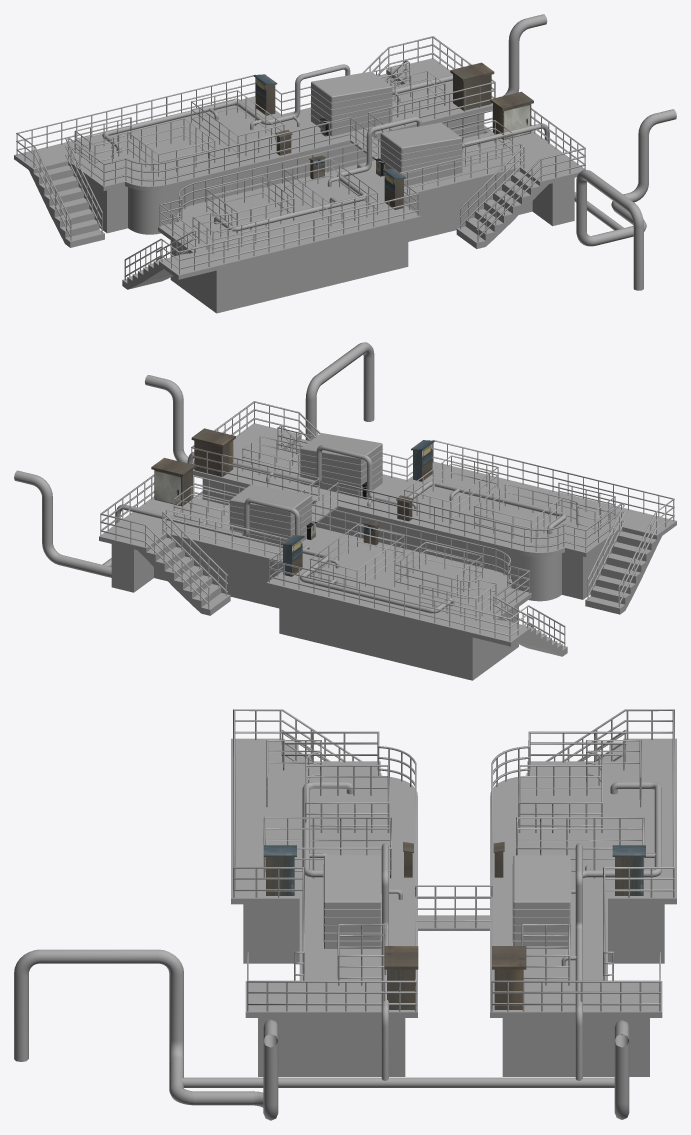
The model's file is ChenShaChi.fbx.
The picture shows the model from 3 angles, top to bottom: view 1: azimuth 30°, elevation 25°; view 2: azimuth 150°, elevation 25°; view 3: azimuth 270°, elevation 25°; orthographic projection. The views are drawn at different scales.
Visible parts, largest first — view 1: DiMian, LanGan, CiZhuan, GuanDao, polySurface11, polySurface12, polySurface1, polySurface3, polySurface6, polySurface4; view 2: DiMian, LanGan, CiZhuan, GuanDao, polySurface12, polySurface11, polySurface1, polySurface3, polySurface4, polySurface6; view 3: DiMian, LanGan, CiZhuan, GuanDao, polySurface11, polySurface12, polySurface1, polySurface3, polySurface4, polySurface6.
Boxes of the visible parts, x1,y1,x2,y2 form: DiMian: (14, 58, 584, 289); LanGan: (16, 36, 585, 280); CiZhuan: (73, 113, 574, 313); GuanDao: (102, 14, 676, 290); polySurface11: (310, 71, 392, 136); polySurface12: (380, 122, 462, 186); polySurface1: (450, 62, 494, 110); polySurface3: (490, 91, 533, 139); polySurface6: (253, 74, 277, 115); polySurface4: (382, 168, 405, 209); DiMian: (99, 423, 676, 656); LanGan: (100, 401, 674, 647); CiZhuan: (111, 479, 616, 680); GuanDao: (14, 342, 566, 613); polySurface12: (299, 433, 382, 498); polySurface11: (229, 484, 312, 547); polySurface1: (151, 457, 195, 506); polySurface3: (191, 428, 235, 476); polySurface4: (411, 440, 434, 481); polySurface6: (281, 535, 304, 576); DiMian: (231, 738, 676, 1017); LanGan: (233, 709, 674, 1011); CiZhuan: (243, 904, 664, 1076); GuanDao: (14, 782, 661, 1120); polySurface11: (512, 855, 571, 948); polySurface12: (323, 855, 381, 948); polySurface1: (492, 946, 526, 1009); polySurface3: (384, 946, 418, 1009); polySurface4: (263, 845, 296, 895); polySurface6: (612, 845, 645, 895).
Size of the model in its own units: 2570 by 469 by 2135.
Materials: 8 (2 with a texture image).
